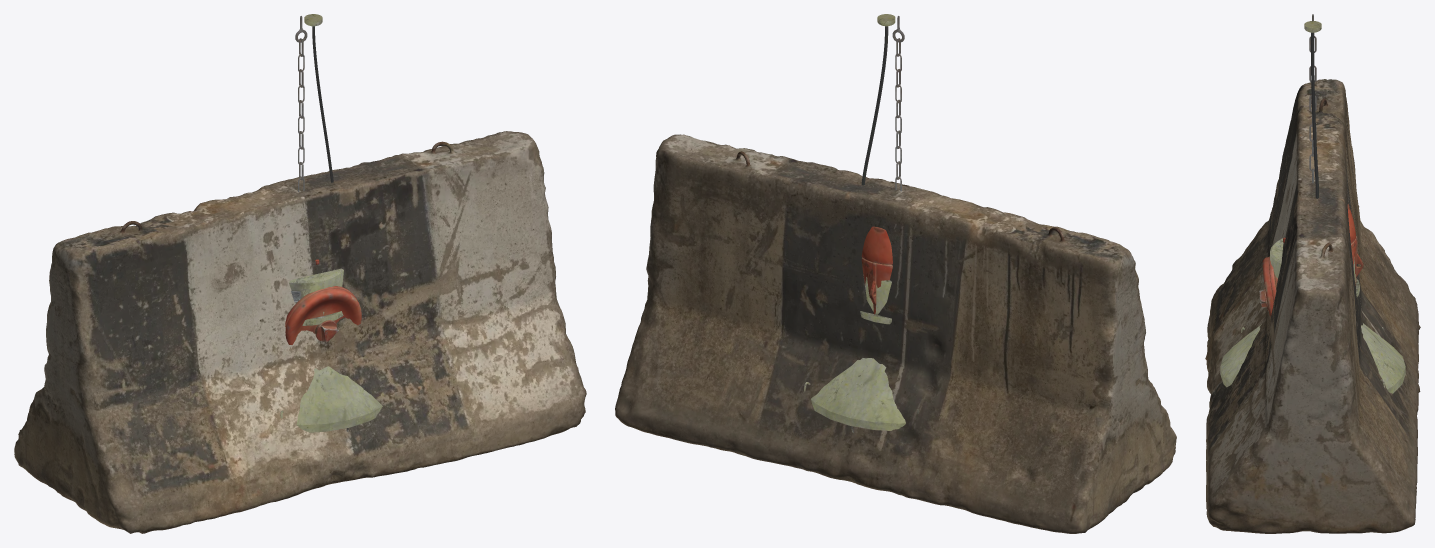
File: zone-checkpoint-customs-kit.glb
3 views of the same model, side by side, from view 1: azimuth 30°, elevation 25°; view 2: azimuth 150°, elevation 25°; view 3: azimuth 270°, elevation 25° (orthographic). The views are drawn at different scales.
Parts seen in each view (by area): view 1: concrete_road_barrier, hanging_industrial_lamp, fire_hydrant_cap_01_aged; view 2: concrete_road_barrier, hanging_industrial_lamp, fire_hydrant_aged; view 3: concrete_road_barrier, hanging_industrial_lamp, fire_hydrant_cap_01_aged, fire_hydrant_aged.
Boxes of the visible parts, <box> form: concrete_road_barrier: <box>14,131,586,533</box>; hanging_industrial_lamp: <box>280,14,382,432</box>; fire_hydrant_cap_01_aged: <box>285,286,361,344</box>; concrete_road_barrier: <box>615,134,1176,533</box>; hanging_industrial_lamp: <box>804,14,918,432</box>; fire_hydrant_aged: <box>861,226,892,314</box>; concrete_road_barrier: <box>1205,79,1420,533</box>; hanging_industrial_lamp: <box>1220,14,1405,393</box>; fire_hydrant_cap_01_aged: <box>1259,256,1276,318</box>; fire_hydrant_aged: <box>1274,204,1363,287</box>.
Bounding box in the file's own units: 1.55 × 1.36 × 0.6387.
Materials: 6 (5 with a texture image).
